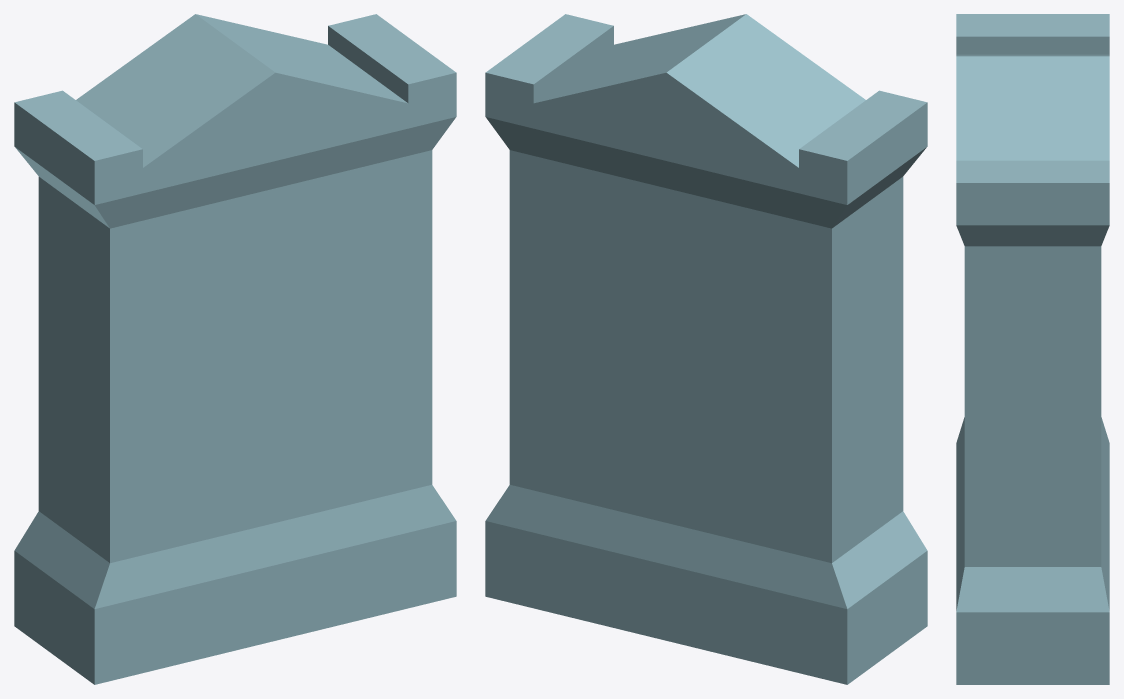
File: gravestoneDecorative.obj
The picture shows the model from 3 angles, left to right: view 1: azimuth 30°, elevation 25°; view 2: azimuth 150°, elevation 25°; view 3: azimuth 270°, elevation 25°; orthographic projection. The views are drawn at different scales.
Visible parts, largest first — view 1: gravestoneDecorative; view 2: gravestoneDecorative; view 3: gravestoneDecorative.
Boxes of the visible parts, box(x1,y1,x2,y2) form: gravestoneDecorative: box(14, 14, 456, 684); gravestoneDecorative: box(485, 14, 927, 684); gravestoneDecorative: box(956, 14, 1109, 684).
Bounding box in the file's own units: 0.39 × 0.585 × 0.1495.
